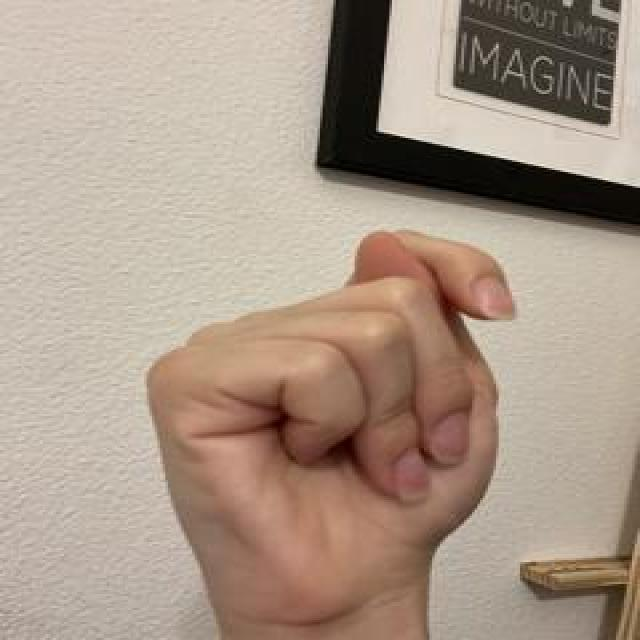T: (141, 223, 523, 623)
